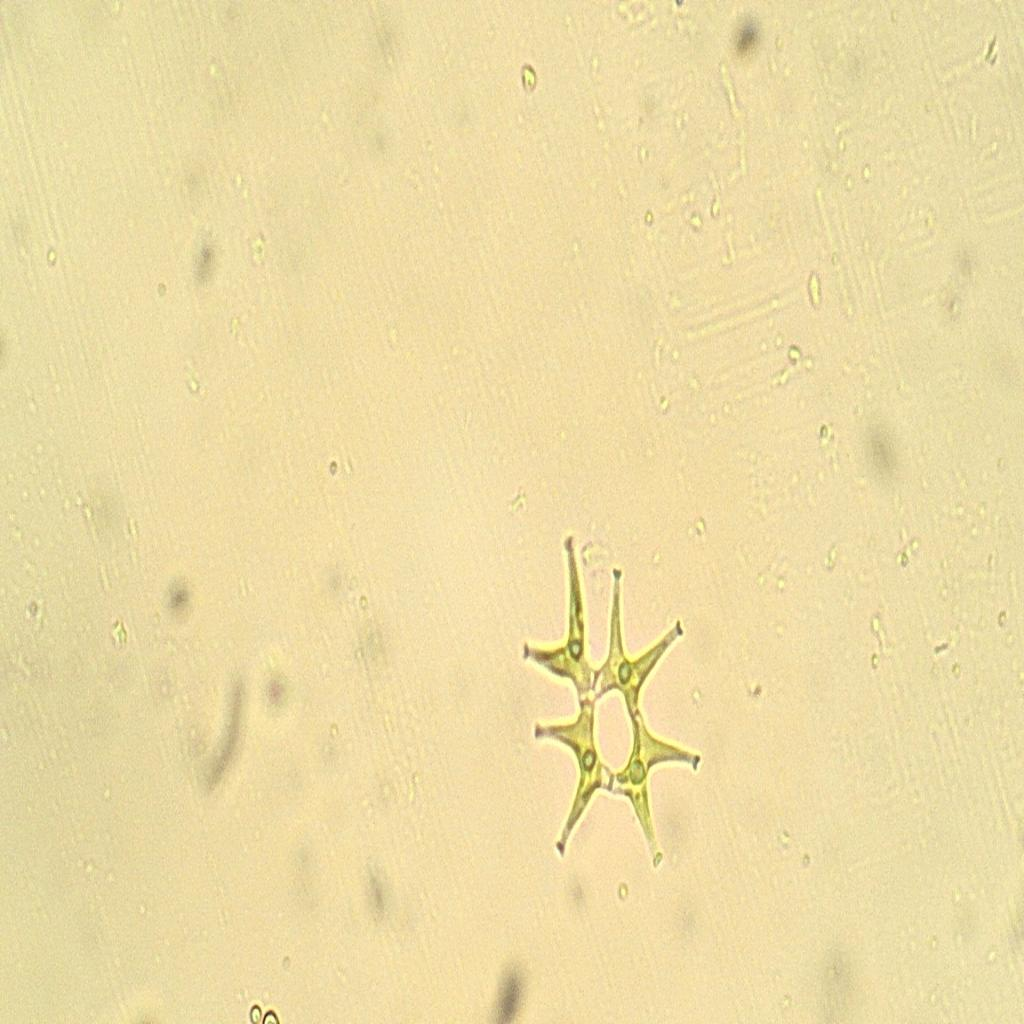Pediastrum_CT: (502, 507, 712, 908)
